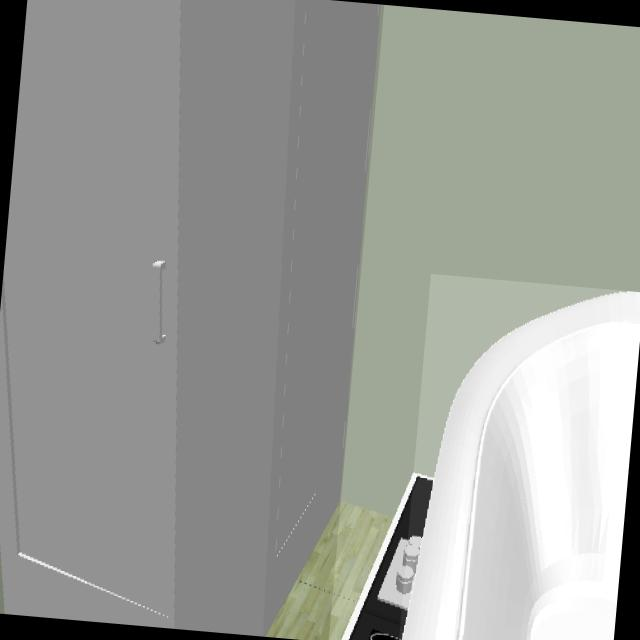bathtube: (400, 291, 640, 640)
